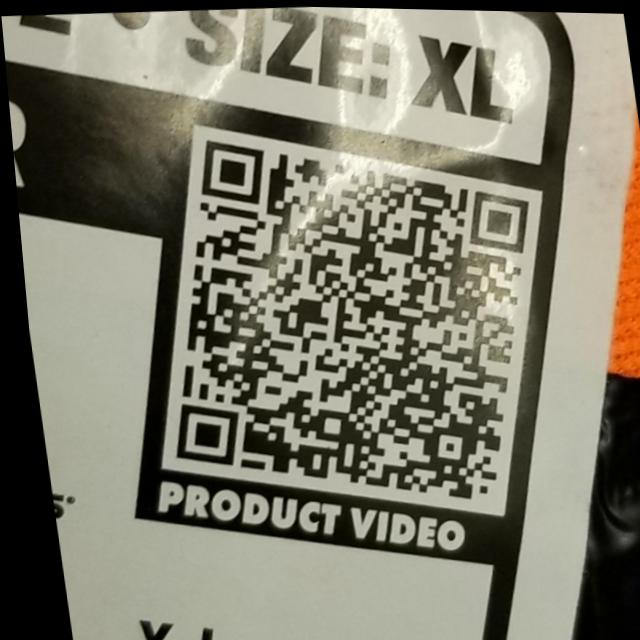QR_CODE: (115, 106, 576, 530)
